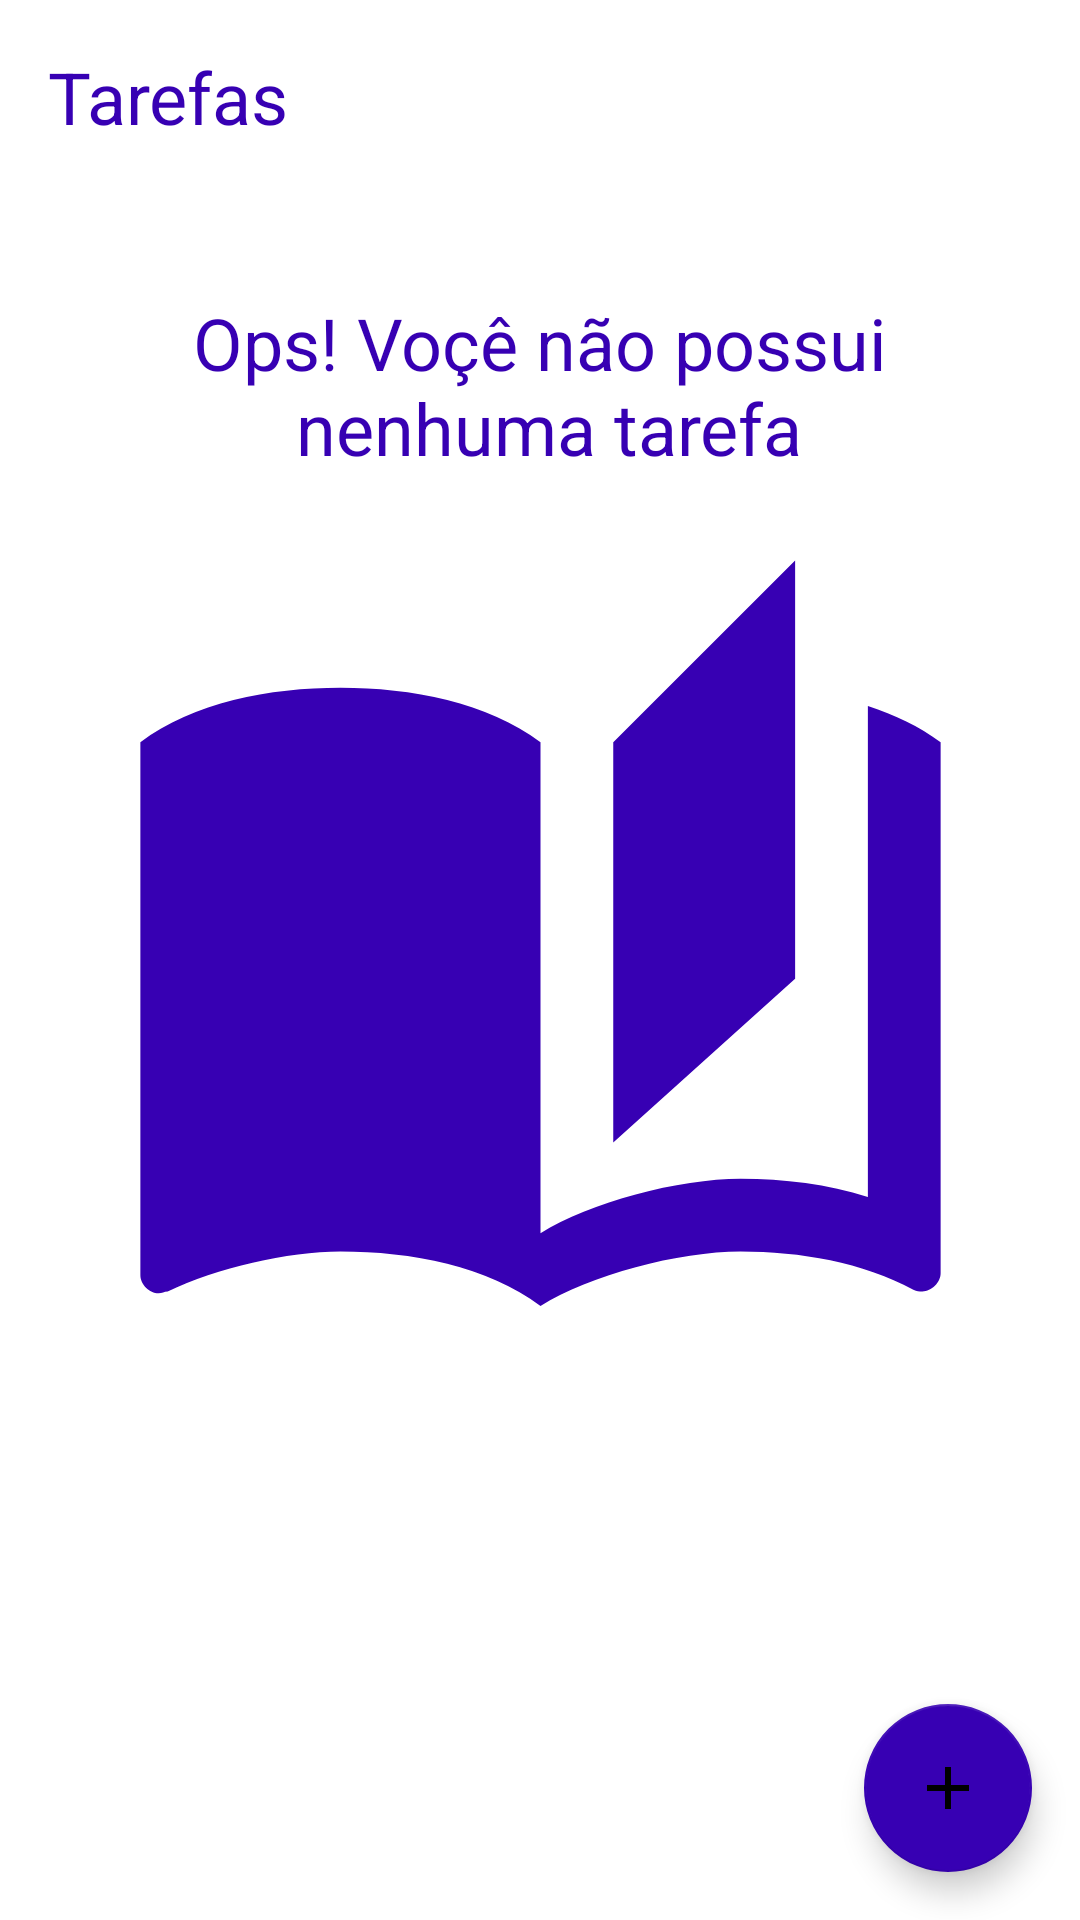

Where to tap for icons on this 1080 x 1920 app screen, as (x,y):
Nova tarefa: (948,1788)
